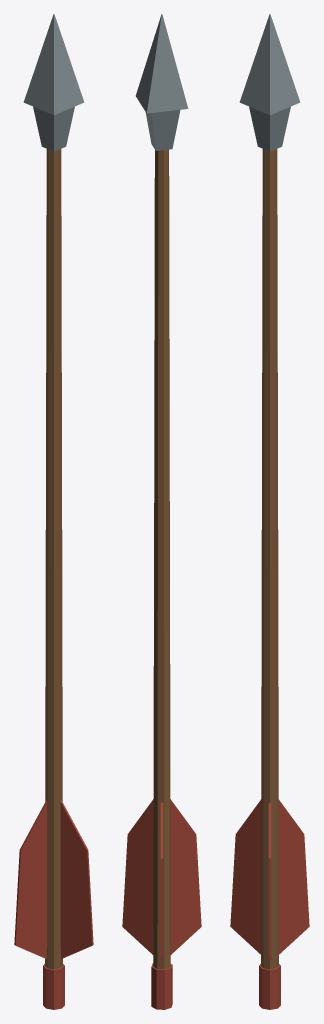
Rendered from Arrow.fbx.
3 views of the same model, side by side, from view 1: azimuth 90°, elevation 25°; view 2: azimuth 150°, elevation 25°; view 3: azimuth 270°, elevation 25° (orthographic).
Visible parts, largest first — view 1: Arrow_IA_Geometry; view 2: Arrow_IA_Geometry; view 3: Arrow_IA_Geometry.
Part boxes in pixels (x1,y1,x2,y2): Arrow_IA_Geometry: (14, 14, 93, 1009); Arrow_IA_Geometry: (122, 14, 201, 1009); Arrow_IA_Geometry: (230, 14, 309, 1009).
Size of the model in its own units: 0.062 by 0.898 by 0.0651.
